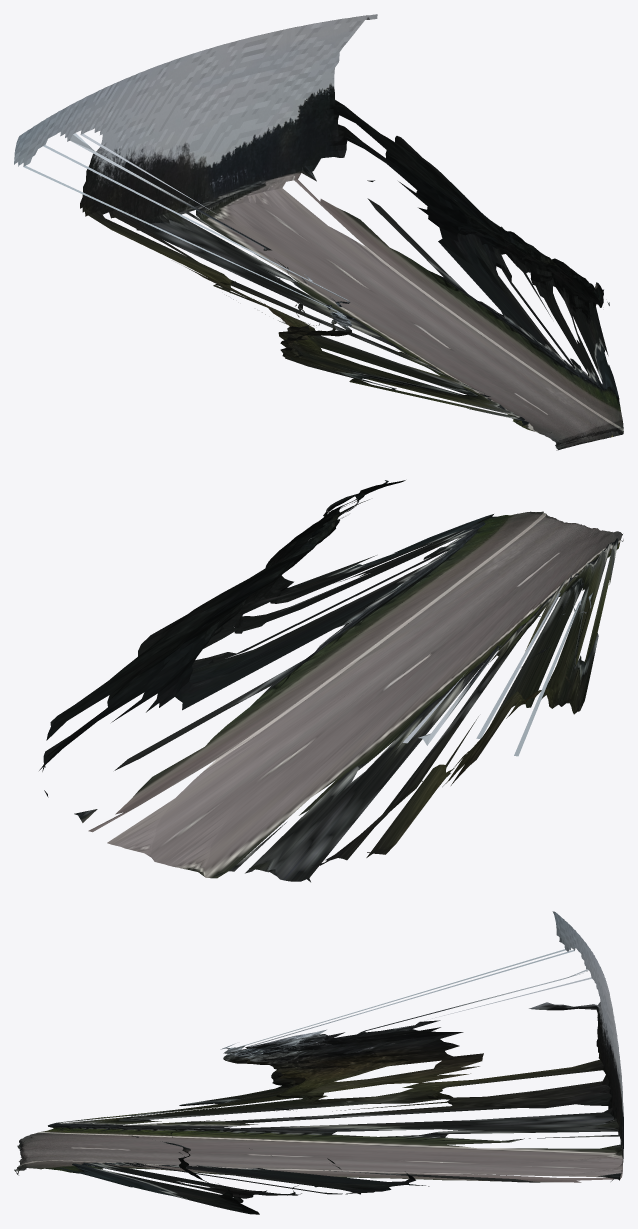
The picture shows the model from 3 angles, top to bottom: view 1: azimuth 30°, elevation 25°; view 2: azimuth 150°, elevation 25°; view 3: azimuth 270°, elevation 25°; orthographic projection. The views are drawn at different scales.
Visible parts, largest first — view 1: defaultobject; view 2: defaultobject; view 3: defaultobject.
Boxes of the visible parts, x1,y1,x2,y2 form: defaultobject: [14, 14, 623, 450]; defaultobject: [39, 480, 623, 882]; defaultobject: [14, 911, 623, 1214].
Bounding box in the file's own units: 30.91 × 12.46 × 44.54.
Materials: 1 (1 with a texture image).
